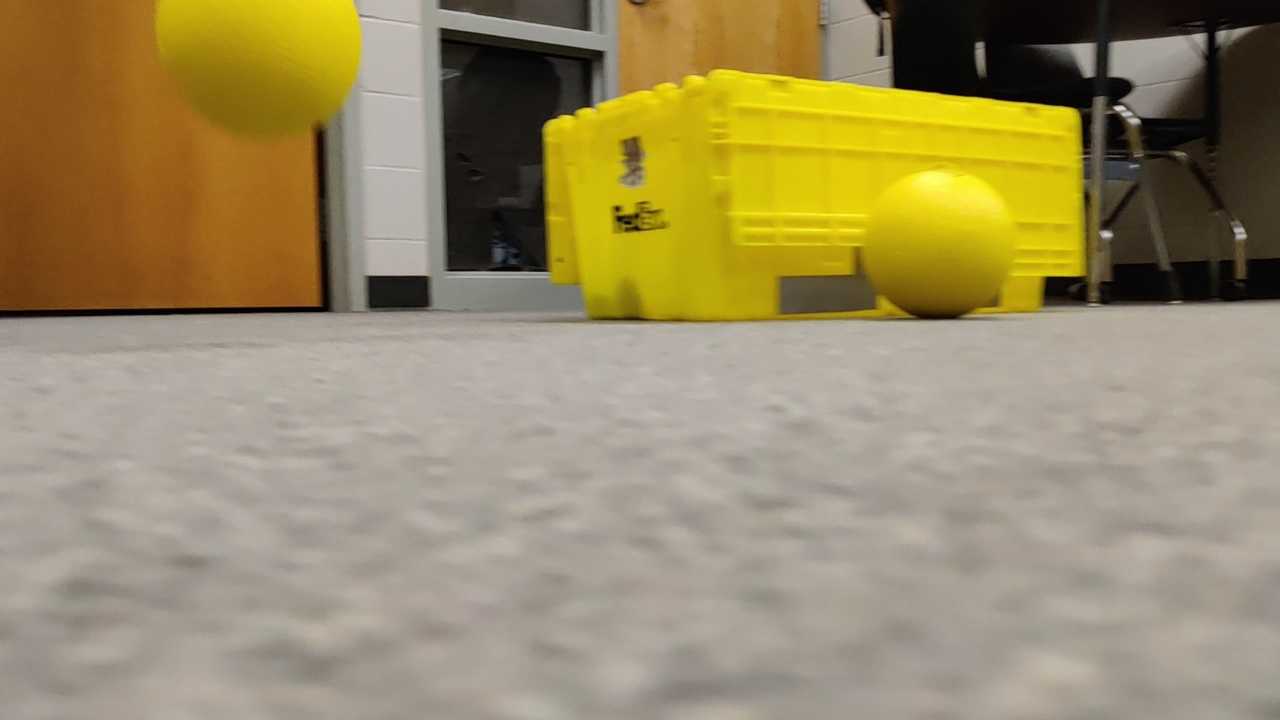Ball: (154, 1, 357, 150), (854, 162, 1024, 320)
